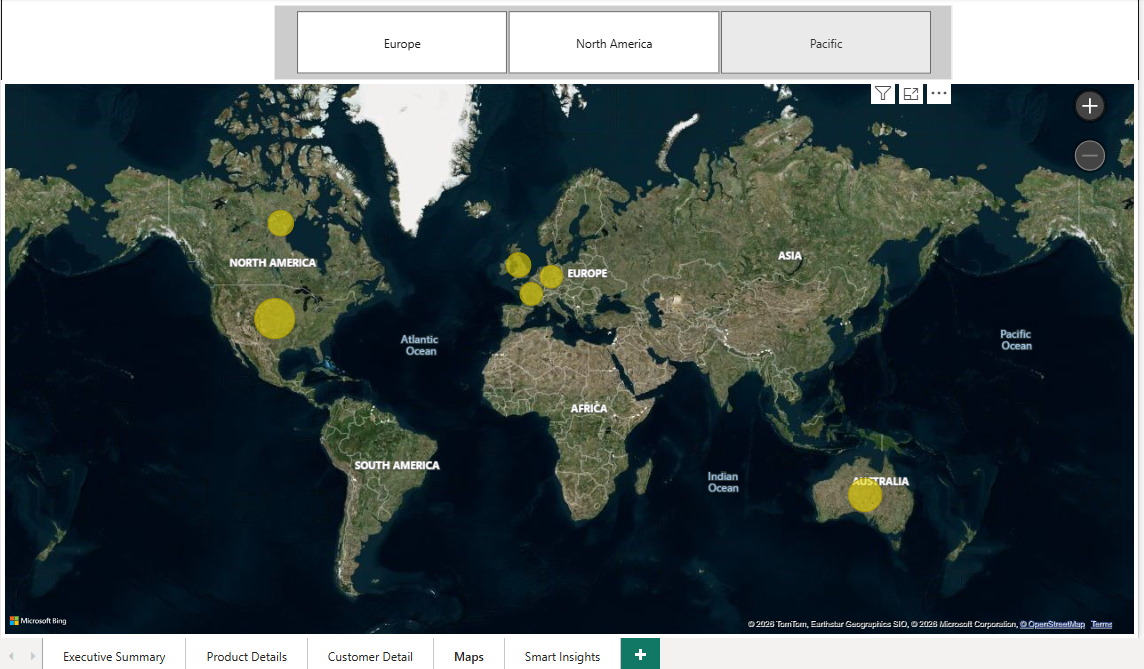

The dashboard page shown, as its layout file describes it:
{"tool":"powerbi","page":{"name":"Maps","canvas":[1280,720],"ordinal":3},"visuals":[{"type":"map","fields":{"Category":["Territories.Country"],"Size":["Sales Data.Total Orders"]},"box":[0,92.2,1280,627.8],"z":0},{"type":"slicer","fields":{"Values":["Territories.Continent"]},"box":[306.7,7.8,763.3,84.4],"z":1000}]}

Visuals, with their boxes in screenshot pixels (x1, y1, x2, y2):
map - Territories.Country x Sales Data.Total Orders: {"x1": 0, "y1": 81, "x2": 1128, "y2": 635}
slicer - Territories.Continent: {"x1": 270, "y1": 7, "x2": 943, "y2": 81}
